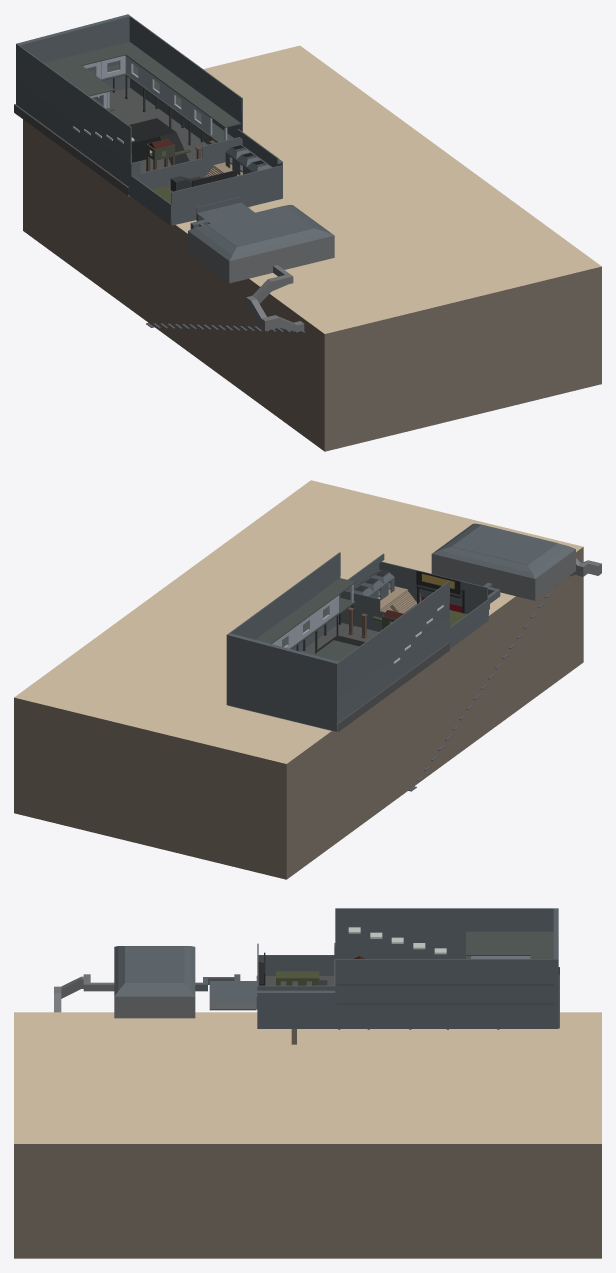
Rendered from ARENA.fbx.
3 views of the same model, one above another, from view 1: azimuth 30°, elevation 25°; view 2: azimuth 150°, elevation 25°; view 3: azimuth 270°, elevation 25° (orthographic). The views are drawn at different scales.
Parts seen in each view (by area): view 1: Cube.015, Cube, Cube.012, Cube.011, Cube.006, Cube.010, Cube.003, Cube.005; view 2: Cube.015, Cube, Cube.012, Cube.011, Cube.003, Cube.001, Cube.002; view 3: Cube.015, Cube, Cube.012, Cube.014.
Part boxes in pixels (box(x1,y1,x2,y2)): Cube.015: box(23, 45, 601, 451); Cube: box(14, 14, 334, 332); Cube.012: box(44, 42, 240, 127); Cube.011: box(83, 55, 227, 145); Cube.006: box(129, 118, 189, 164); Cube.010: box(90, 64, 233, 142); Cube.003: box(225, 144, 272, 175); Cube.005: box(146, 138, 190, 171); Cube.015: box(14, 480, 583, 879); Cube: box(226, 523, 601, 732); Cube.012: box(255, 578, 358, 661); Cube.011: box(272, 584, 353, 653); Cube.003: box(349, 570, 394, 600); Cube.001: box(416, 570, 464, 613); Cube.002: box(378, 586, 416, 613); Cube.015: box(14, 1012, 601, 1258); Cube: box(54, 908, 559, 1028); Cube.012: box(337, 931, 553, 985); Cube.014: box(276, 971, 319, 985).
Size of the model in its own units: 13894 by 8844 by 22631.
1 material, 1 textured.
